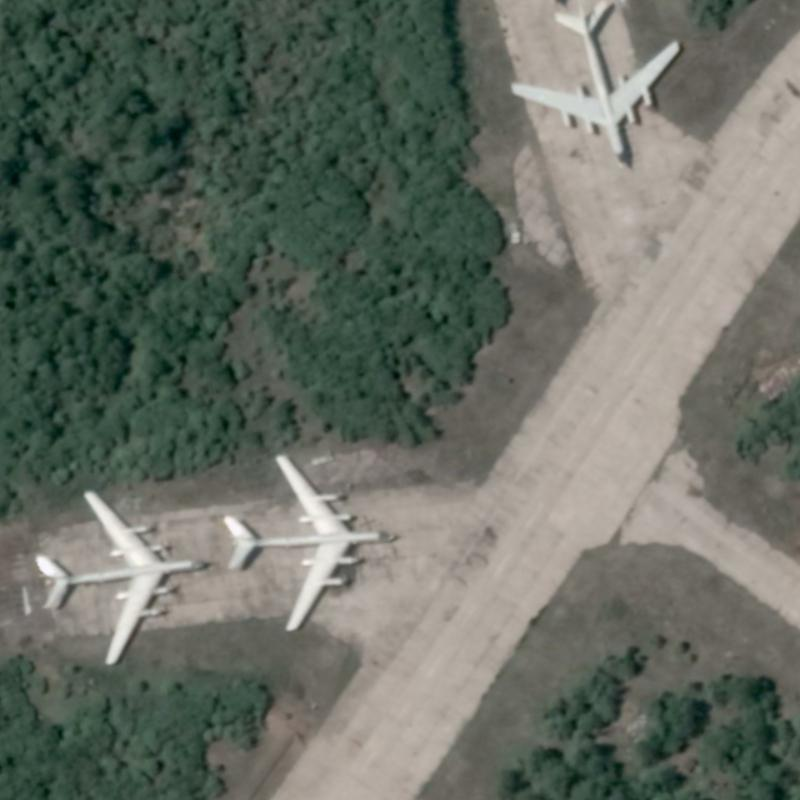A17: (218, 448, 409, 638), (28, 484, 215, 668), (505, 0, 683, 172)
